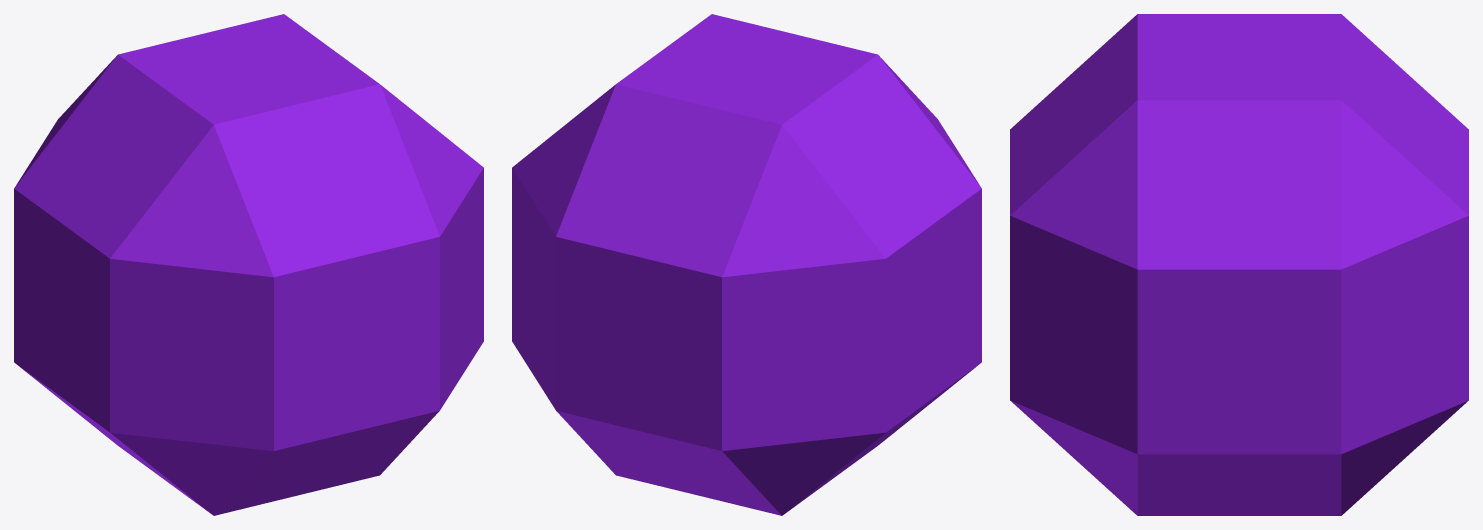
File: gfx_191.obj
The picture shows the model from 3 angles, left to right: view 1: azimuth 30°, elevation 25°; view 2: azimuth 150°, elevation 25°; view 3: azimuth 270°, elevation 25°; orthographic projection. The views are drawn at different scales.
Bounding box in the file's own units: 0.1406 × 0.1406 × 0.1406.
